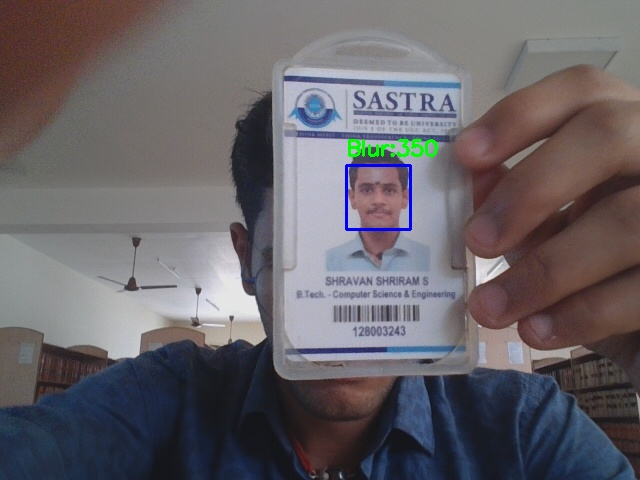fake: (346, 165, 410, 229)
